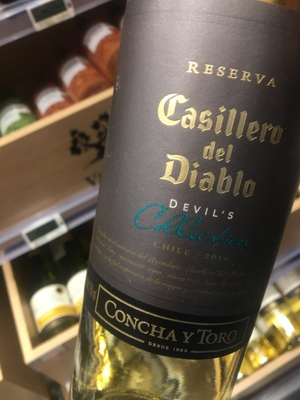casillero del diablo devils collection verde: (79, 2, 296, 400)
